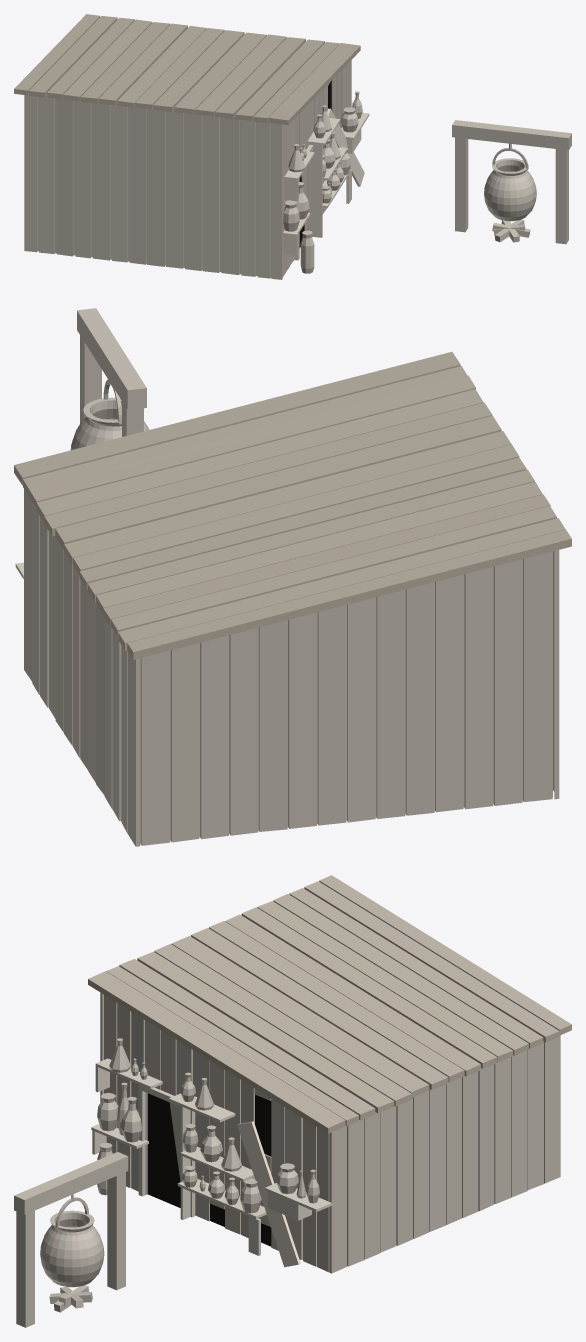
Rendered from adrias-hut_clay.glb.
The picture shows the model from 3 angles, top to bottom: view 1: azimuth 30°, elevation 25°; view 2: azimuth 150°, elevation 25°; view 3: azimuth 270°, elevation 25°; orthographic projection. The views are drawn at different scales.
Visible parts, largest first — view 1: walls, roofs, frames; view 2: walls, roofs; view 3: walls, roofs, frames, openings.
Part boxes in pixels (<box>): walls: <box>24,60,571,279</box>; roofs: <box>14,14,360,124</box>; frames: <box>283,108,369,260</box>; walls: <box>24,308,559,846</box>; roofs: <box>14,352,571,659</box>; walls: <box>14,992,560,1327</box>; roofs: <box>88,875,571,1133</box>; frames: <box>91,1058,331,1267</box>; openings: <box>147,1093,271,1246</box>.
Bounding box in the file's own units: 7.71 × 2.79 × 7.11.
